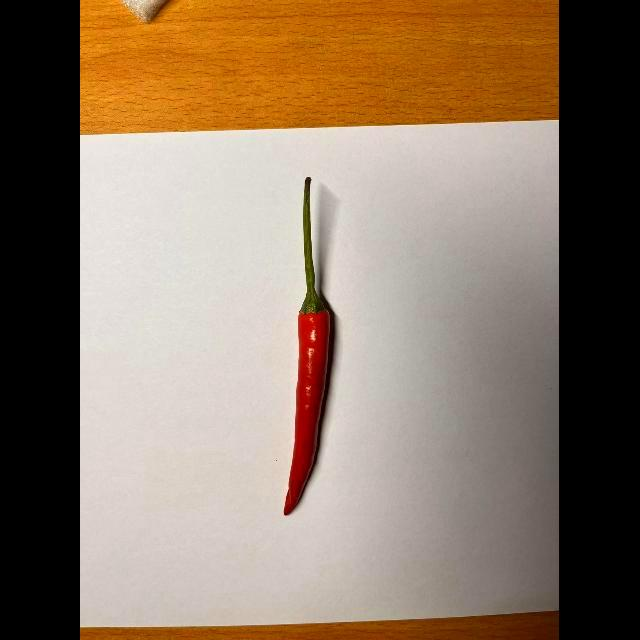chili_pepper: (263, 176, 338, 522)
